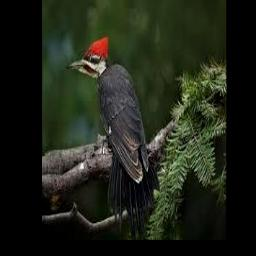Woodpecker: (68, 34, 159, 239)
